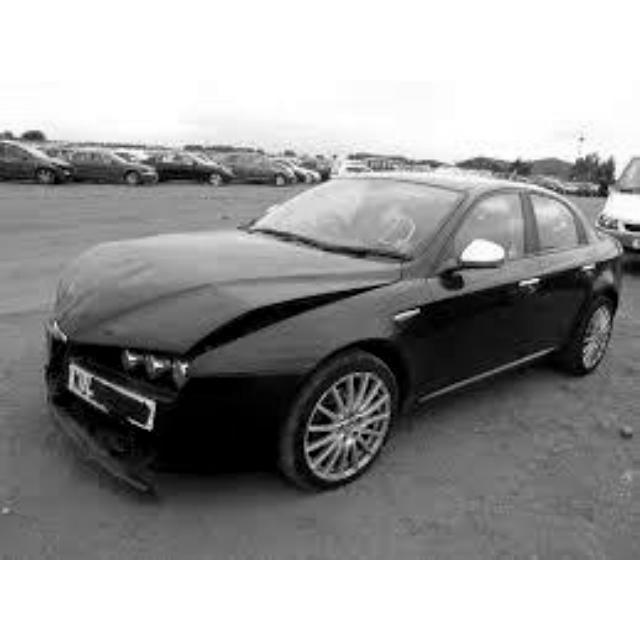bonnet-dent: (37, 226, 331, 344)
front-bumper-dent: (43, 365, 186, 453)
